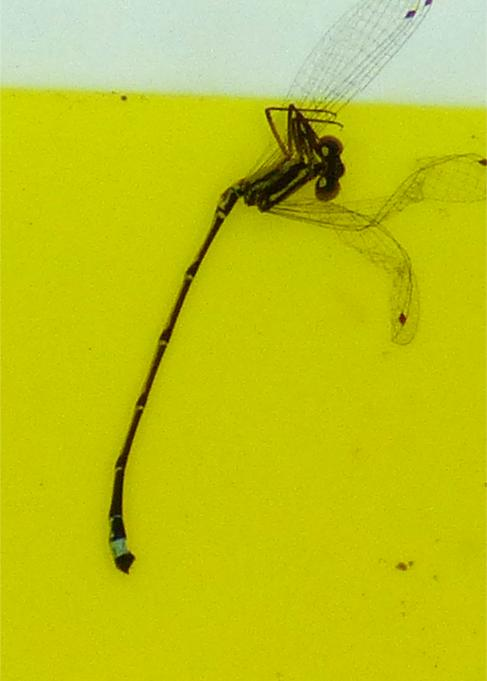Odonata: (100, 100, 387, 581)
